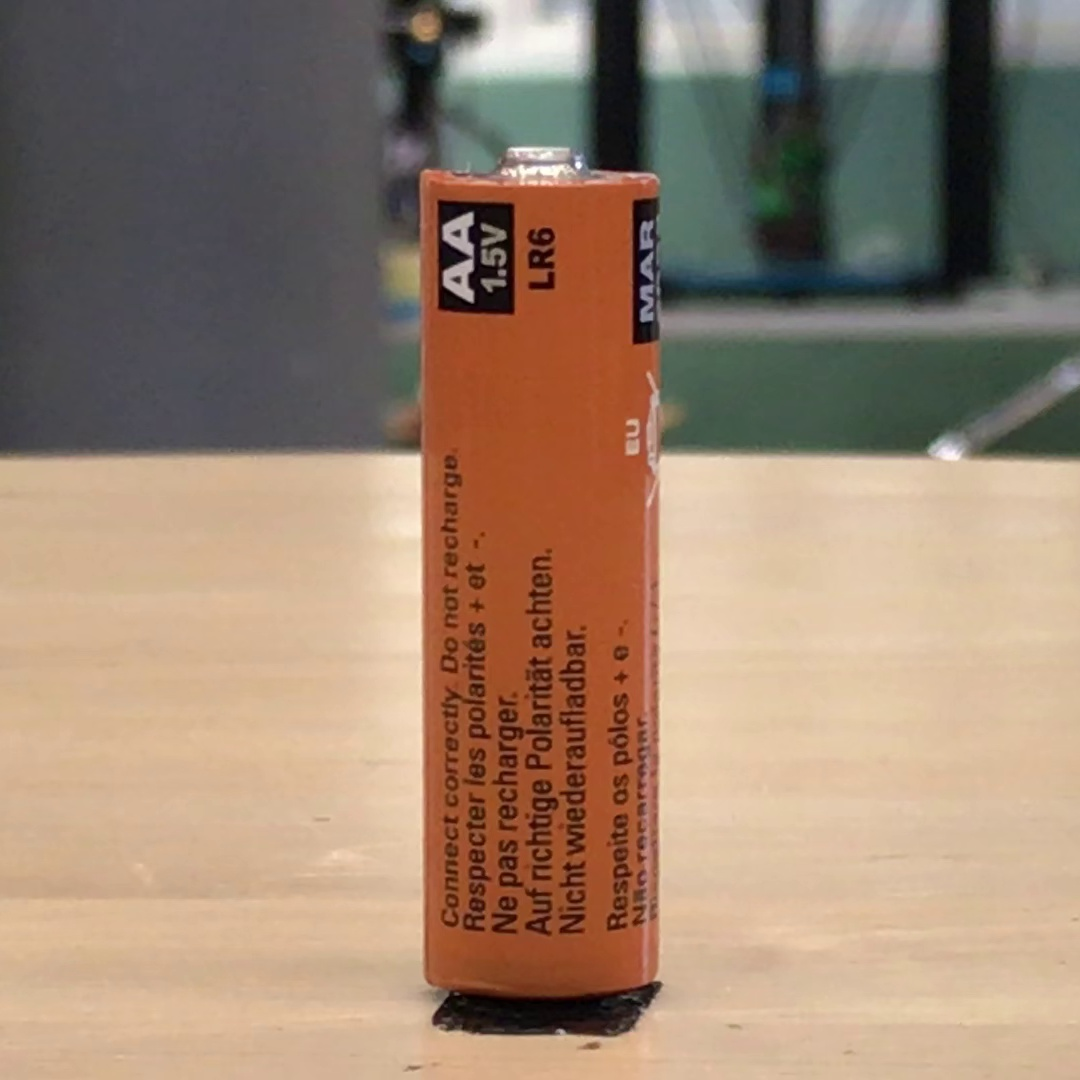keyword: (517, 217, 565, 301)
